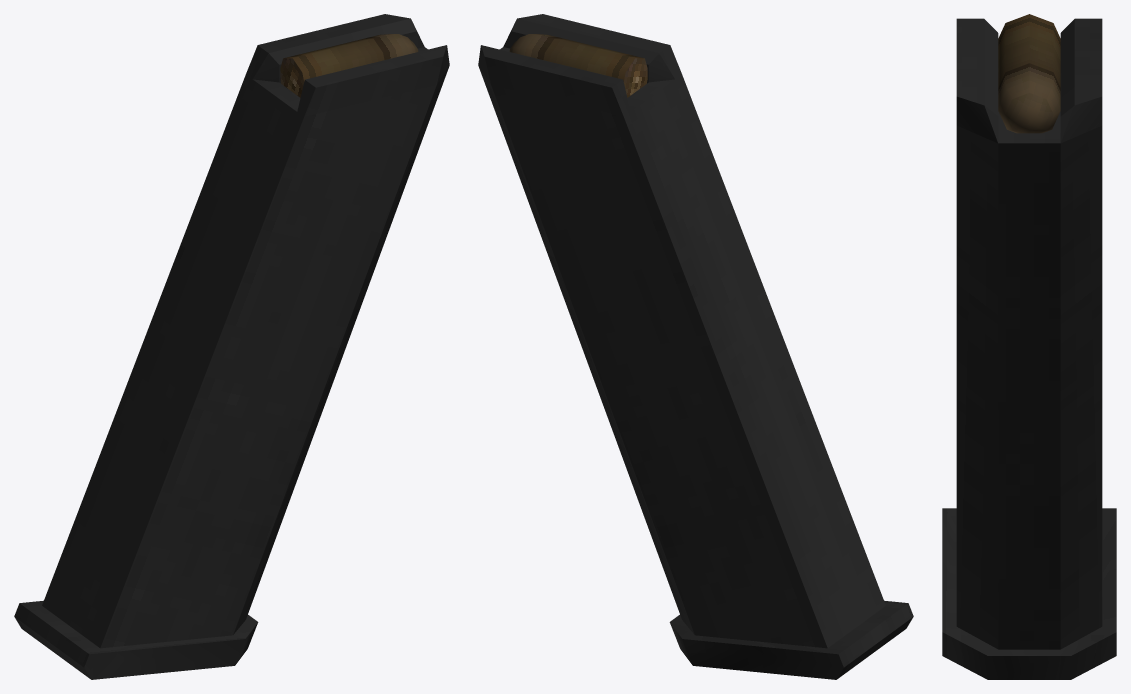
The model's file is pistol_mp_1_mag_loaded.glb.
3 renders of one model, left to right at view 1: azimuth 30°, elevation 25°; view 2: azimuth 150°, elevation 25°; view 3: azimuth 270°, elevation 25°, orthographic. The views are drawn at different scales.
Parts seen in each view (by area): view 1: pistol_mp_1_mag_loaded; view 2: pistol_mp_1_mag_loaded; view 3: pistol_mp_1_mag_loaded.
Boxes of the visible parts, x1,y1,x2,y2 form: pistol_mp_1_mag_loaded: [14, 14, 449, 679]; pistol_mp_1_mag_loaded: [478, 14, 913, 679]; pistol_mp_1_mag_loaded: [942, 14, 1116, 679].
Bounding box in the file's own units: 0.1153 × 0.16 × 0.036.
Materials: 2 (2 with a texture image).
